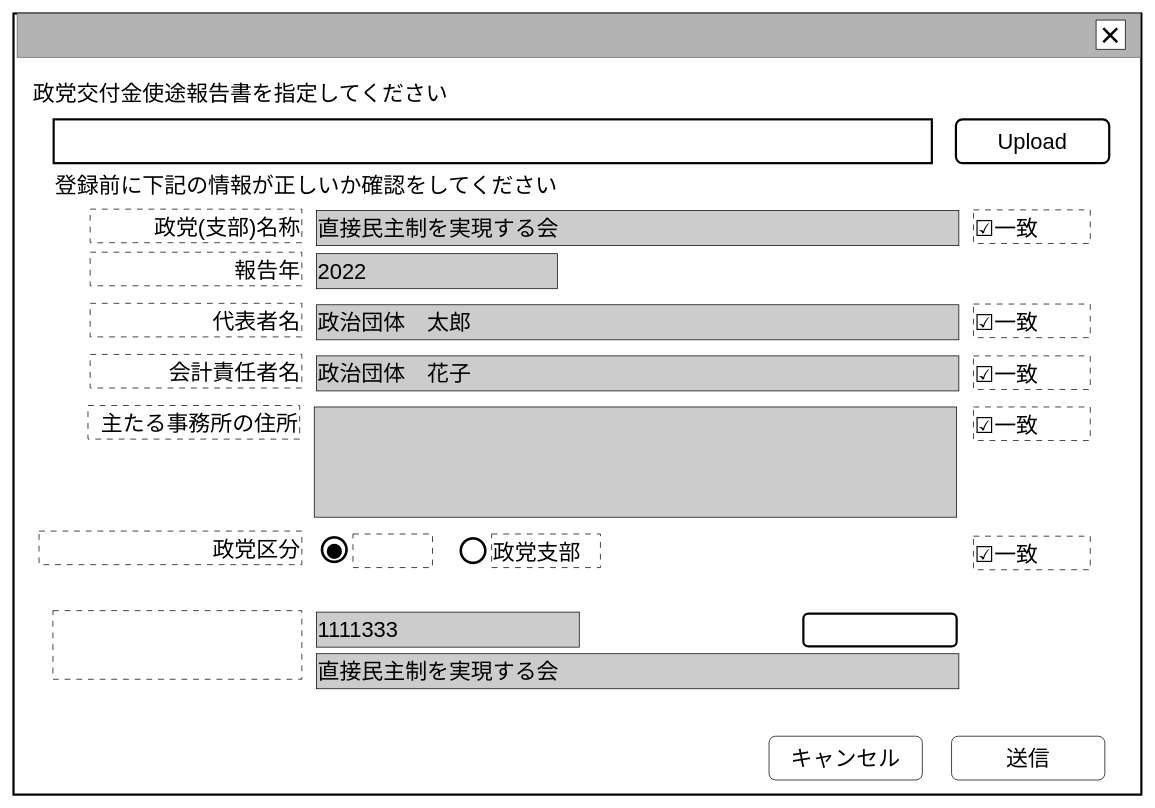
Image size: 1155x808. Some labels were removed from this diagram. Each missing label, with the centre of its shape:
"政党" belongs at (x=392, y=550).
"東京都千代田区霞ケ浦999番地" belongs at (x=635, y=461).
"検索" belongs at (x=879, y=629).
"結びつける登録済の政党" belongs at (x=177, y=644).
